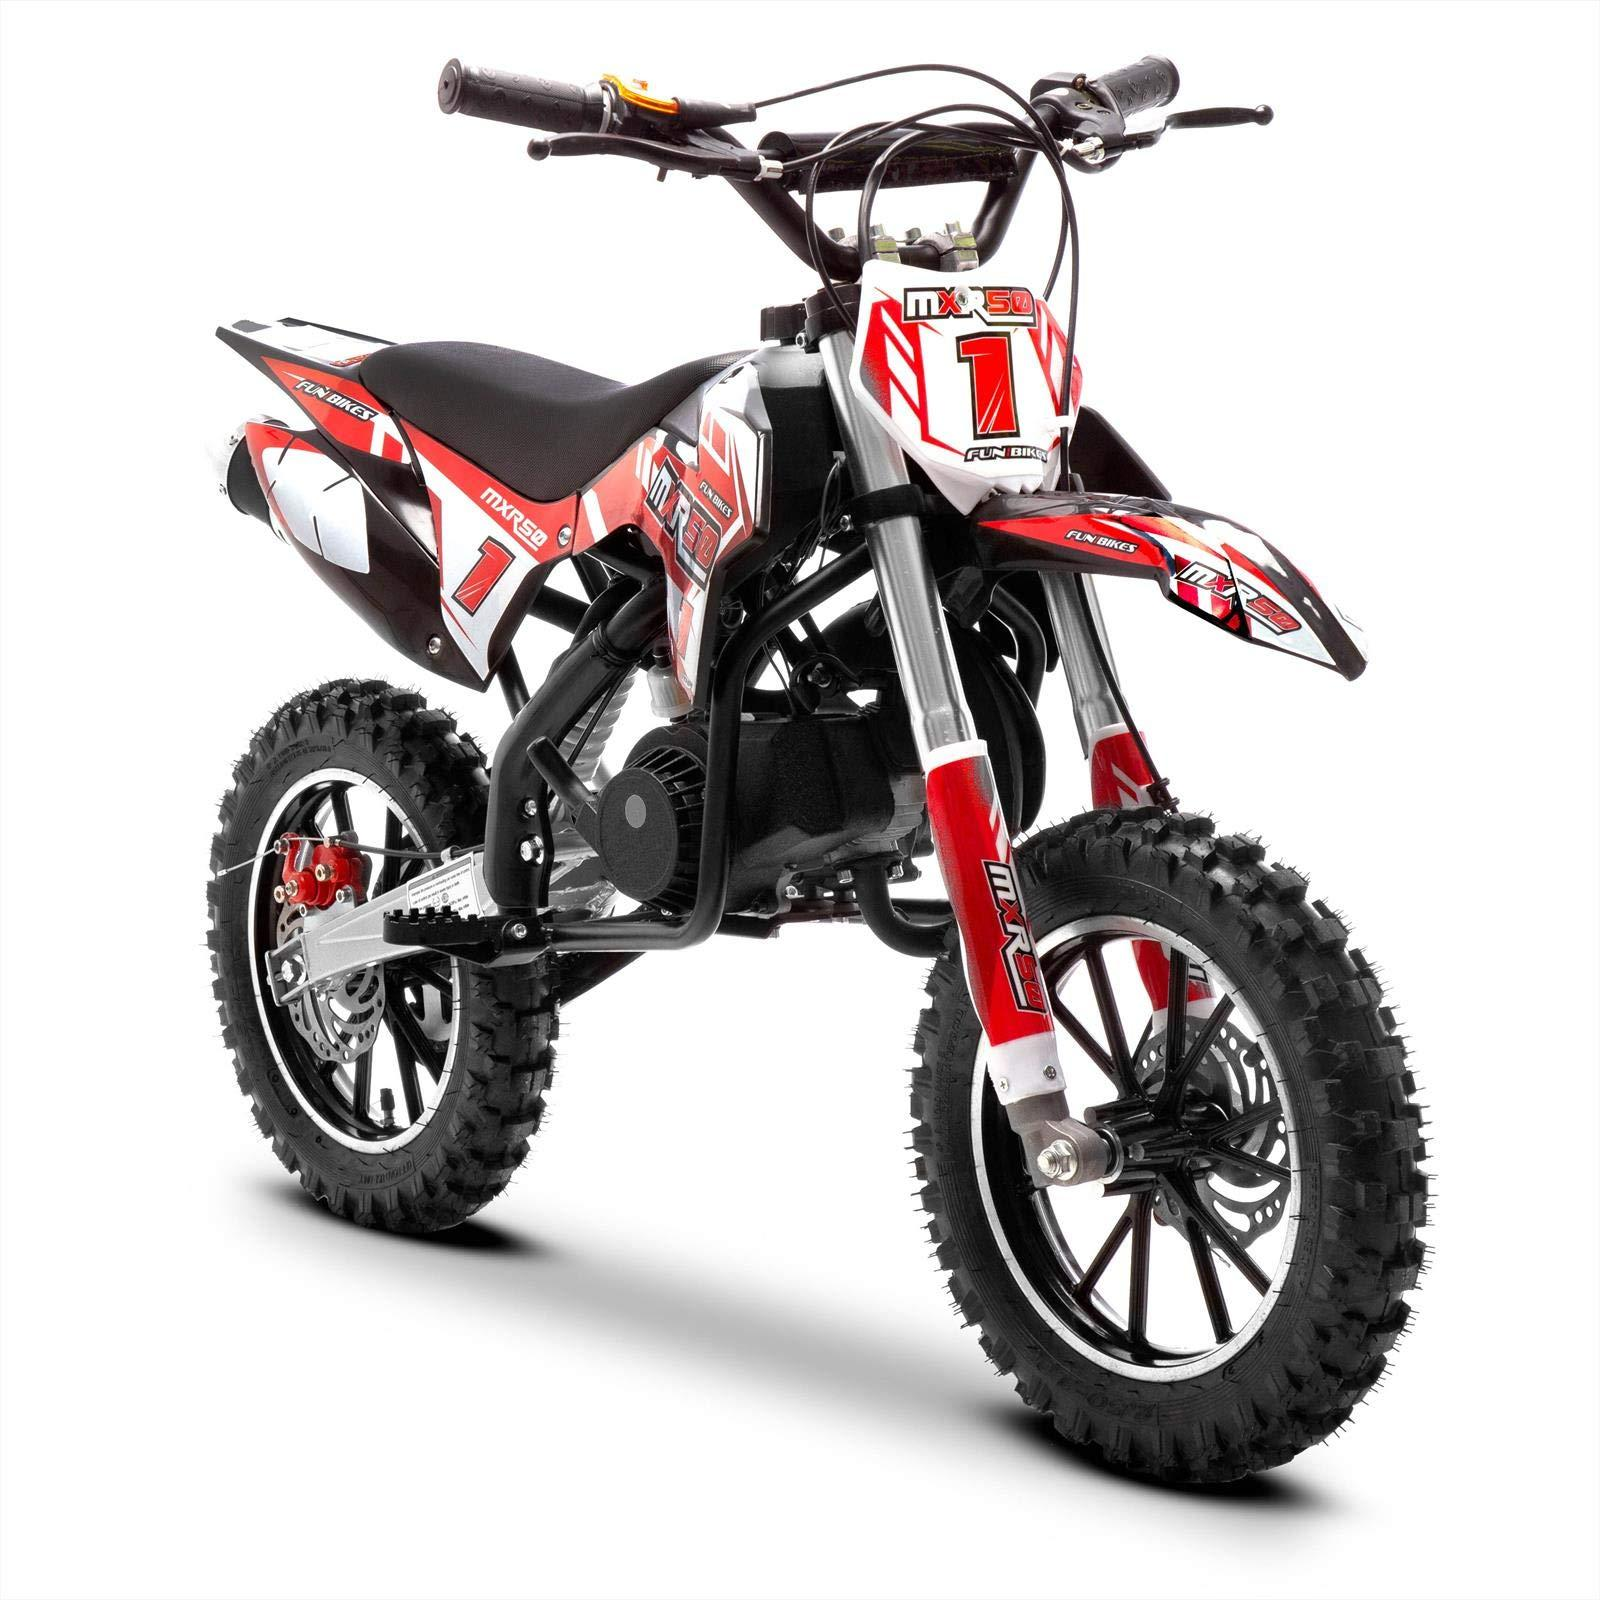motorbike: (204, 50, 1432, 1492)
